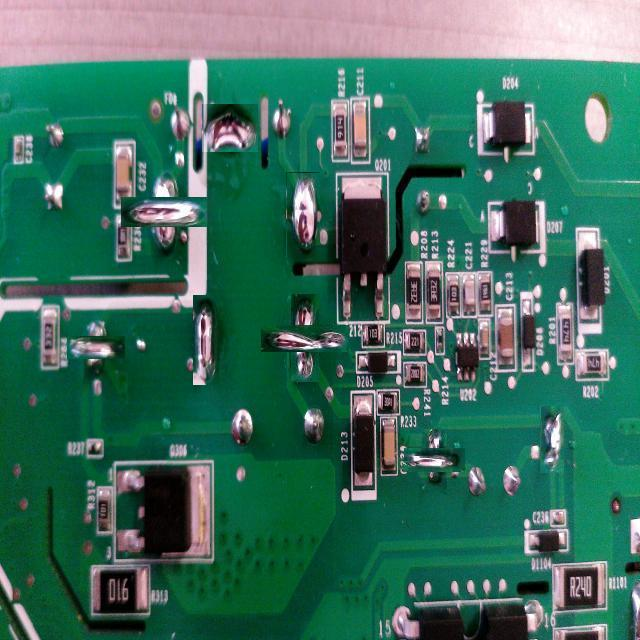Short_circuit: (135, 183, 193, 242), (276, 309, 334, 367), (286, 172, 320, 258), (202, 104, 258, 152), (193, 295, 219, 385), (413, 438, 456, 481), (76, 327, 116, 368), (540, 405, 564, 473)
